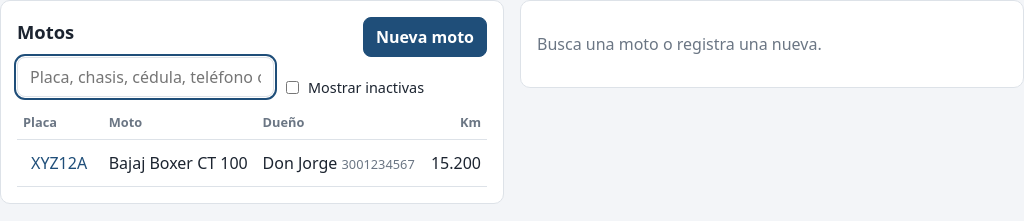
Test: pantalla Motos › lista las recientes y busca por lo que se escriba
Expected: the row "XYZ12A Bajaj Boxer CT 100 Don Jorge 3001234567 15.200" is shown, [17, 140, 487, 186]
Type "300 123" into the field named "Buscar moto".
click(146, 77); type("300 123")  # box [17, 57, 274, 97]
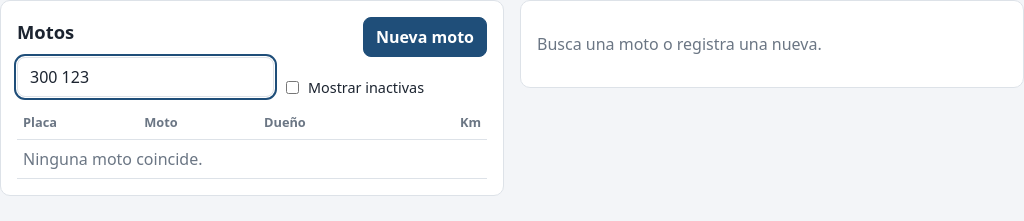
Now the text "Ninguna moto coincide." is shown, box [17, 140, 487, 178]
Click the checkbox labelled "Mostrar inactivas".
click(292, 88)  # box [286, 81, 299, 94]
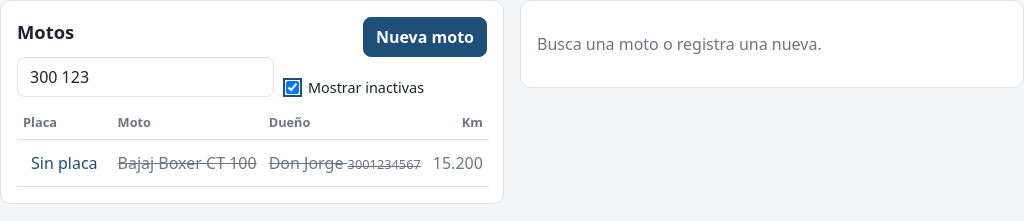
Now the button "Sin placa" is shown, box [23, 148, 106, 178]
